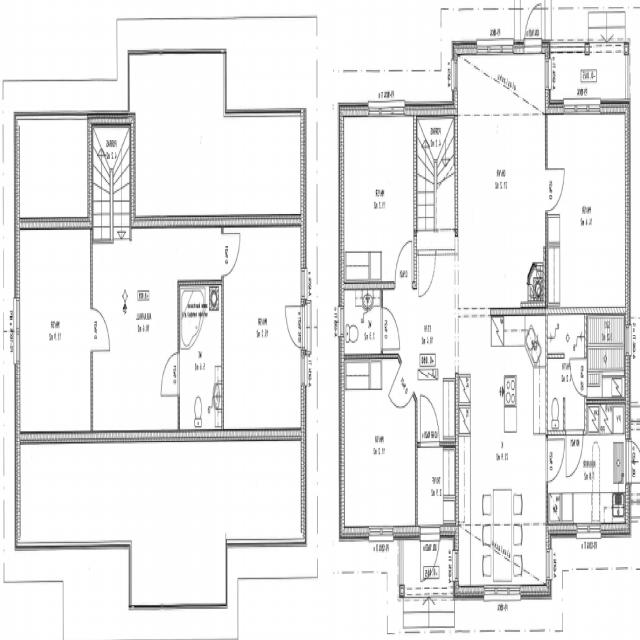door: (388, 361, 414, 425), (421, 525, 440, 587), (420, 394, 440, 447), (283, 306, 307, 350), (525, 0, 542, 54), (90, 308, 110, 351), (395, 240, 412, 290), (160, 353, 180, 394), (566, 430, 583, 478), (381, 307, 400, 348), (221, 234, 240, 275), (546, 168, 564, 211), (546, 440, 564, 482), (625, 441, 640, 483), (570, 359, 587, 395)
